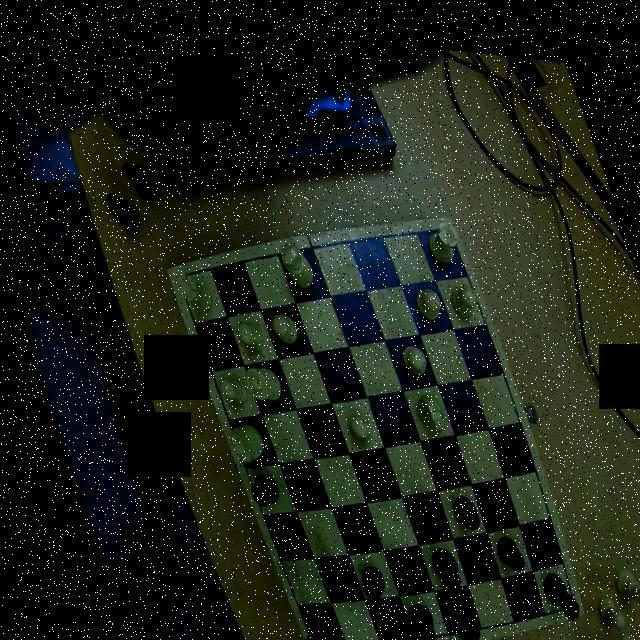chess-table-corners: (428, 206, 457, 238), (162, 258, 190, 288), (546, 582, 572, 609), (290, 622, 314, 640)
